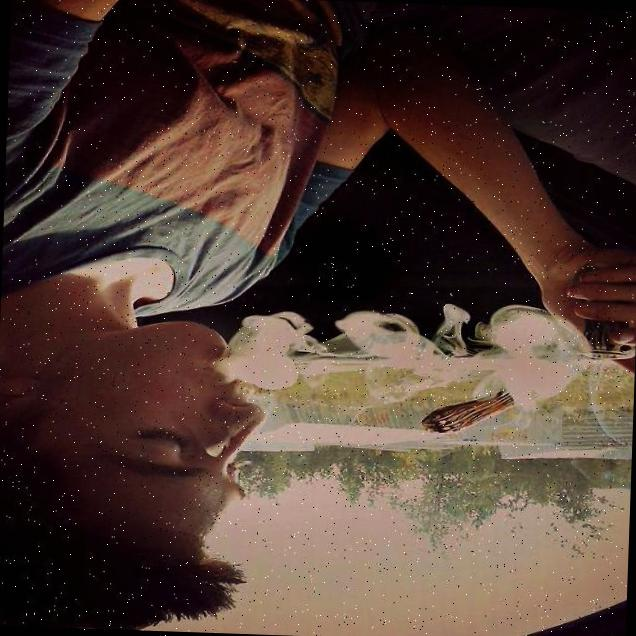smoke: (207, 299, 601, 405)
